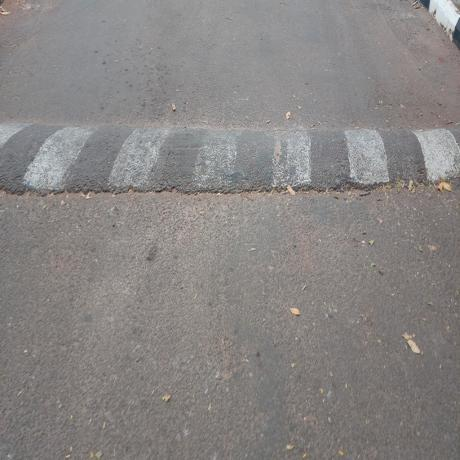Speed Bump: (1, 113, 460, 195)
